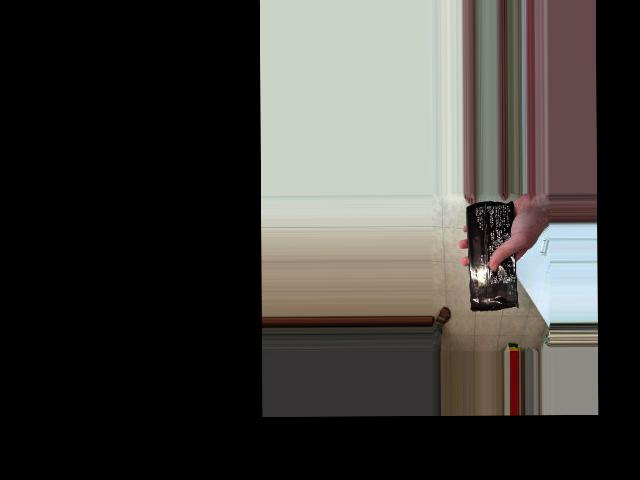chocolate: (463, 201, 518, 313)
